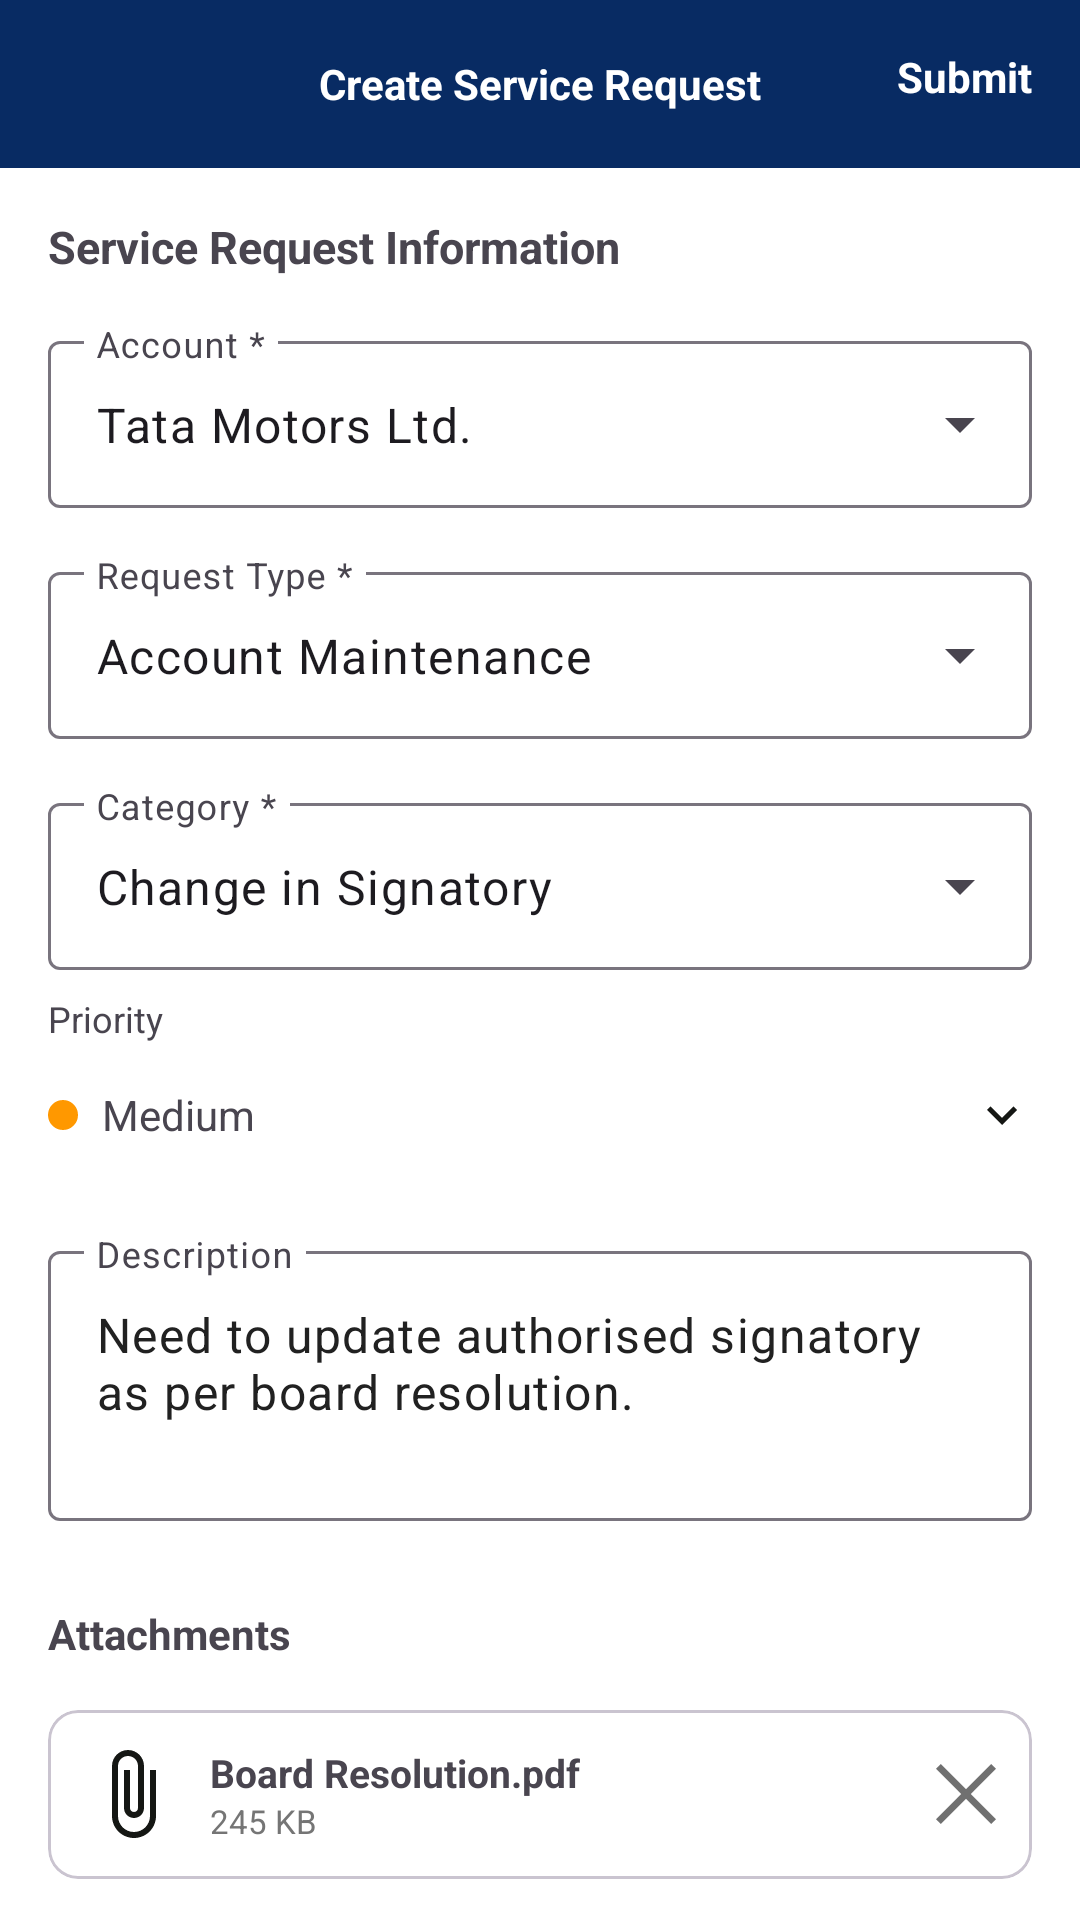

Screen size 1080x1920. Icon name, then its box in pixels as bbox=(x1, y1, x2, y2):
attach file: bbox=(112, 1750, 156, 1838)
close: bbox=(936, 1764, 996, 1824)
dot: bbox=(48, 1100, 78, 1130)
